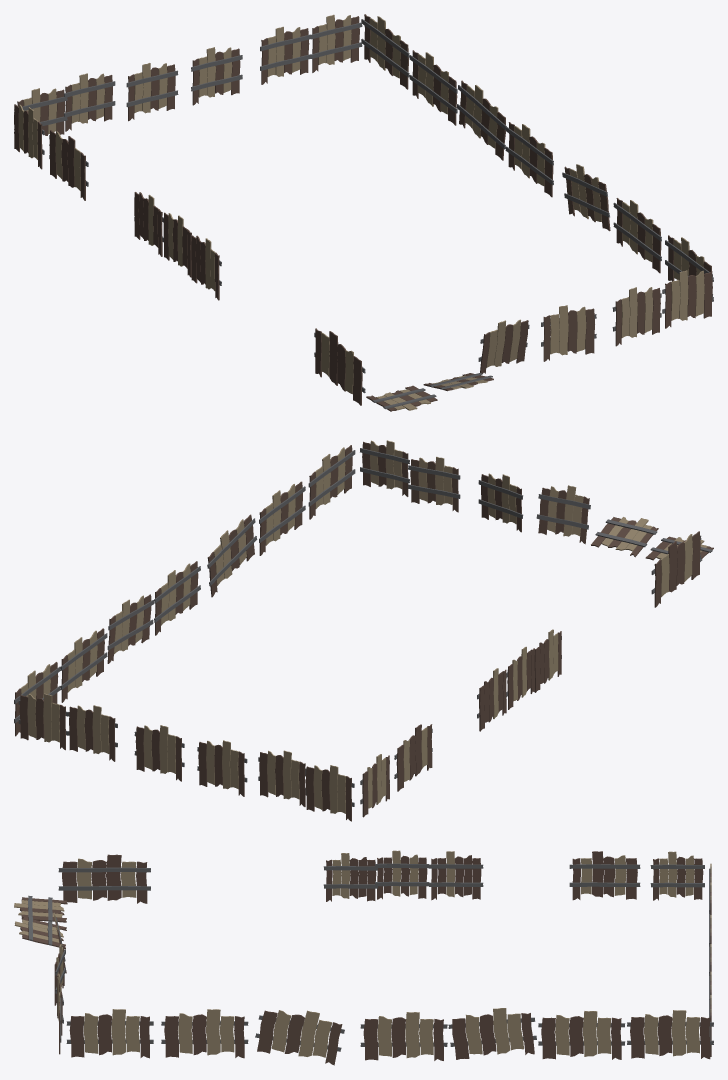
Rendered from 18 Wood Fence.FBX.
3 views of the same model, one above another, from view 1: azimuth 30°, elevation 25°; view 2: azimuth 150°, elevation 25°; view 3: azimuth 270°, elevation 25° (orthographic). The views are drawn at different scales.
Parts seen in each view (by area): view 1: no part large enough to name; view 2: no part large enough to name; view 3: Box219, Box203, Box211, Box195, Box171, Box187, Box179, Box206, Box214, Box174, Box198, Box222 (+44 smaller).
Boxes of the visible parts, left/top/right/bottom form: Box219: left=111, top=1009, right=125, bottom=1055; Box203: left=298, top=1010, right=319, bottom=1056; Box211: left=206, top=1009, right=220, bottom=1055; Box195: left=405, top=1012, right=419, bottom=1057; Box171: left=671, top=1010, right=686, bottom=1056; Box187: left=493, top=1008, right=510, bottom=1054; Box179: left=582, top=1011, right=597, bottom=1056; Box206: left=257, top=1010, right=277, bottom=1053; Box214: left=164, top=1016, right=178, bottom=1057; Box174: left=630, top=1017, right=644, bottom=1058; Box198: left=363, top=1019, right=378, bottom=1060; Box222: left=69, top=1016, right=84, bottom=1057.
Bounding box in the file's own units: 4638 × 763 × 8549.
